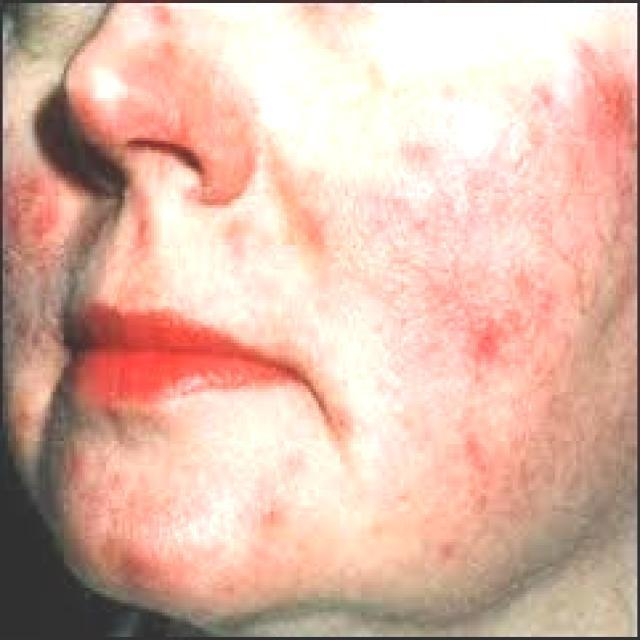Rosacea: (262, 43, 640, 511), (103, 21, 252, 197), (48, 480, 228, 604), (0, 159, 62, 254)
